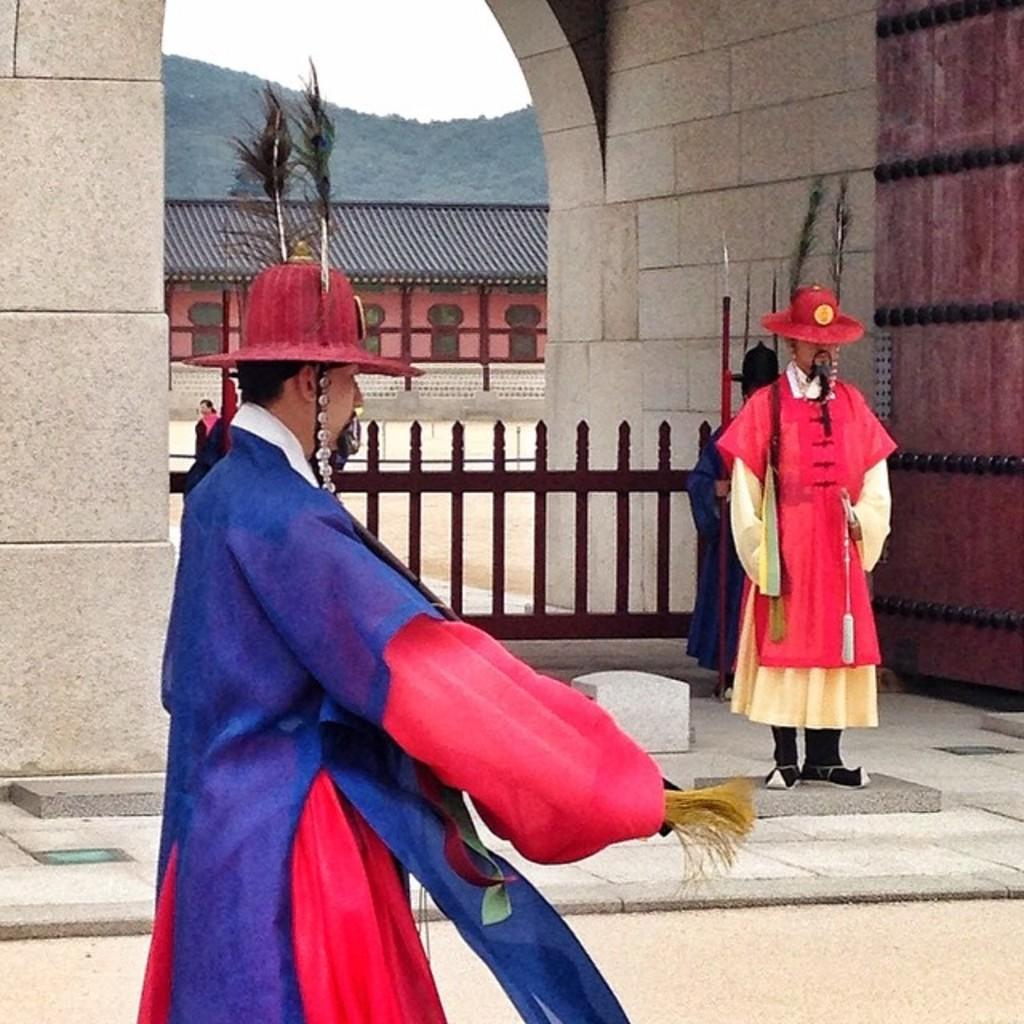Hat: (187, 236, 417, 482), (756, 281, 866, 342)
